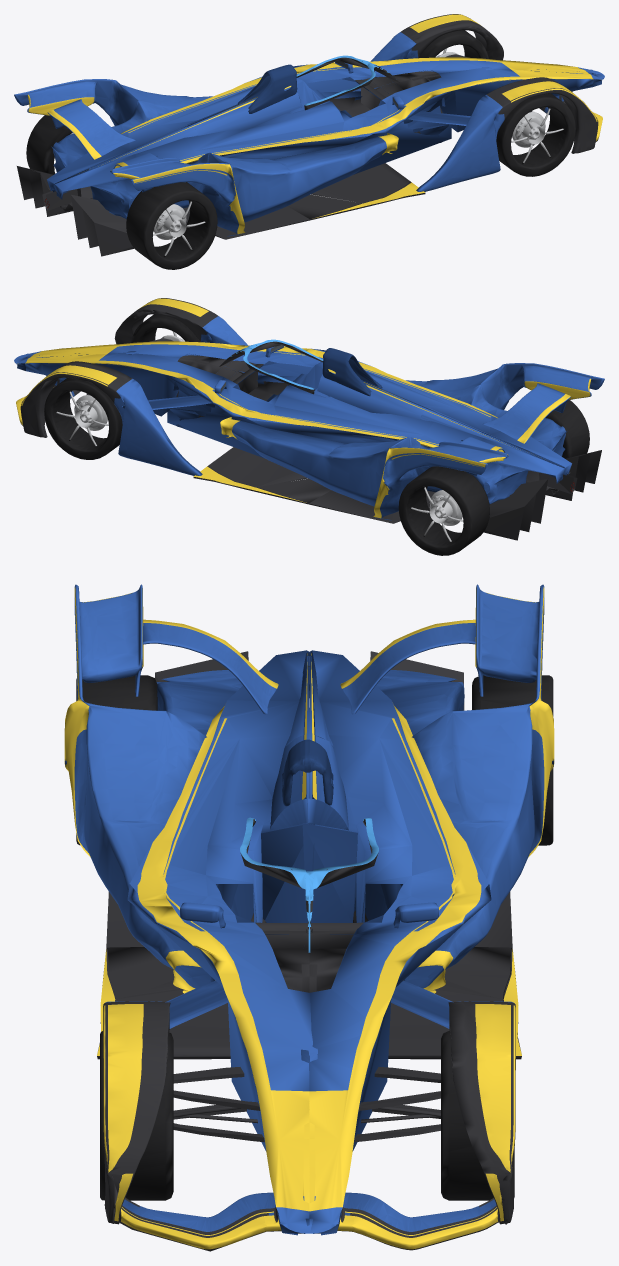
3 renders of one model, top to bottom at view 1: azimuth 30°, elevation 25°; view 2: azimuth 150°, elevation 25°; view 3: azimuth 270°, elevation 25°, orthographic. The views are drawn at different scales.
Parts seen in each view (by area): view 1: body, tyre_rr, tyre_fr, tyre_rl, tyre_fl, fw_main_r, halo_led; view 2: body, tyre_rl, tyre_fl, tyre_rr, tyre_fr, fw_main_l, halo_led; view 3: body, fw_main_l, fw_main_r, tyre_fl, tyre_fr, tyre_rl, tyre_rr, halo_led.
Part boxes in pixels (x1=…): body: x1=14, y1=14, x2=604, y2=256; tyre_rr: x1=126, y1=182, x2=217, y2=269; tyre_fr: x1=496, y1=93, x2=575, y2=176; tyre_rl: x1=26, y1=115, x2=72, y2=174; tyre_fl: x1=418, y1=30, x2=488, y2=58; fw_main_r: x1=546, y1=110, x2=602, y2=152; halo_led: x1=296, y1=55, x2=391, y2=105; body: x1=14, y1=298, x2=604, y2=540; tyre_rl: x1=398, y1=466, x2=489, y2=555; tyre_fl: x1=44, y1=378, x2=122, y2=459; tyre_rr: x1=545, y1=400, x2=589, y2=458; tyre_fr: x1=131, y1=314, x2=200, y2=342; fw_main_l: x1=16, y1=396, x2=71, y2=436; halo_led: x1=227, y1=339, x2=323, y2=391; body: x1=64, y1=584, x2=554, y2=1235; fw_main_l: x1=349, y1=1151, x2=514, y2=1250; fw_main_r: x1=105, y1=1159, x2=269, y2=1251; tyre_fl: x1=441, y1=1030, x2=514, y2=1200; tyre_fr: x1=100, y1=1031, x2=173, y2=1200; tyre_rl: x1=472, y1=675, x2=553, y2=845; tyre_rr: x1=76, y1=675, x2=157, y2=845; halo_led: x1=240, y1=817, x2=378, y2=952.
Bounding box in the file's own units: 4.55 × 0.9497 × 1.73.
